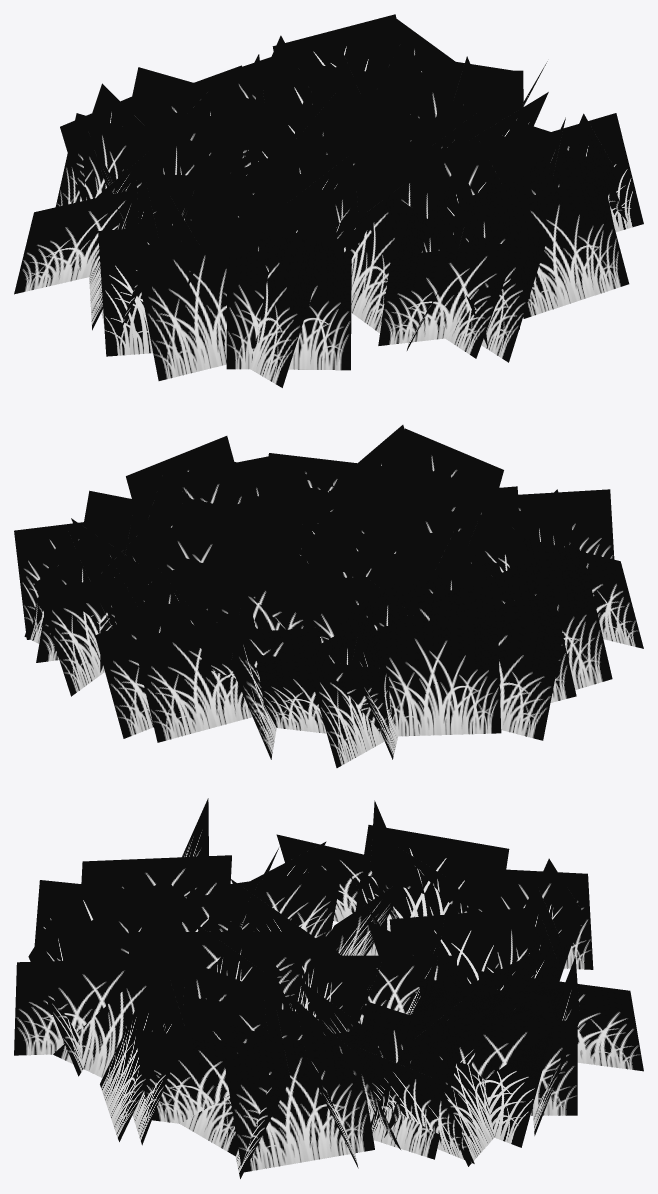
File: Grass01.fbx
The picture shows the model from 3 angles, top to bottom: view 1: azimuth 30°, elevation 25°; view 2: azimuth 150°, elevation 25°; view 3: azimuth 270°, elevation 25°; orthographic projection. The views are drawn at different scales.
Visible parts, largest first — view 1: Grass01_LOD0; view 2: Grass01_LOD0; view 3: Grass01_LOD0.
Part boxes in pixels (left/top/right/bottom): Grass01_LOD0: left=14, top=14, right=643, bottom=387; Grass01_LOD0: left=14, top=425, right=643, bottom=767; Grass01_LOD0: left=14, top=798, right=643, bottom=1178.
Size of what is drawn, in the model's own units: 154 by 30.11 by 148.
